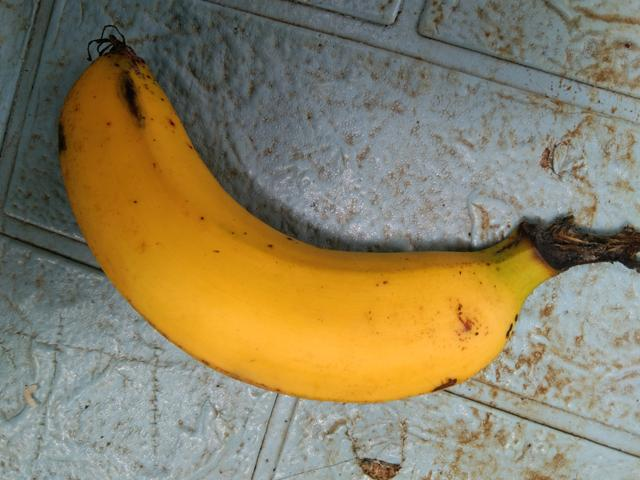freshripe: (52, 40, 535, 411)
